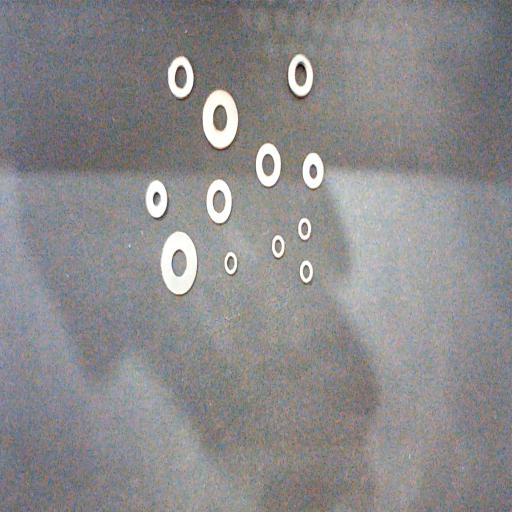washer: (161, 231, 197, 295), (202, 89, 239, 148), (256, 142, 282, 188), (206, 179, 232, 225), (287, 55, 313, 99), (168, 56, 194, 98), (146, 180, 167, 219), (302, 153, 324, 188), (224, 251, 238, 275), (272, 234, 285, 258), (298, 218, 311, 241), (300, 260, 312, 284)
